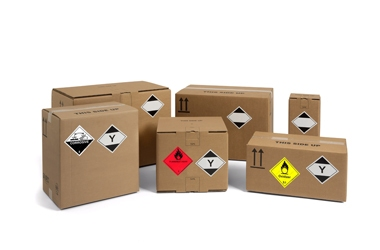Parcel: (60, 109, 139, 210), (245, 145, 348, 203), (156, 132, 228, 192), (246, 130, 347, 153), (52, 81, 170, 98), (42, 109, 61, 210), (43, 100, 138, 119), (175, 84, 273, 99), (156, 116, 228, 133), (290, 93, 321, 100)
